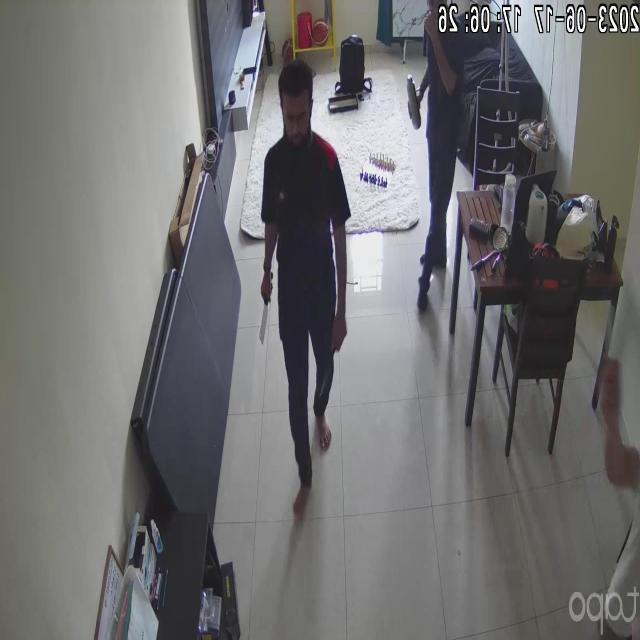Knife: (254, 291, 282, 346)
